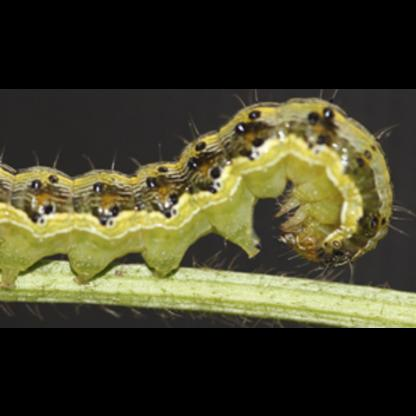oruga: (1, 94, 397, 296)
